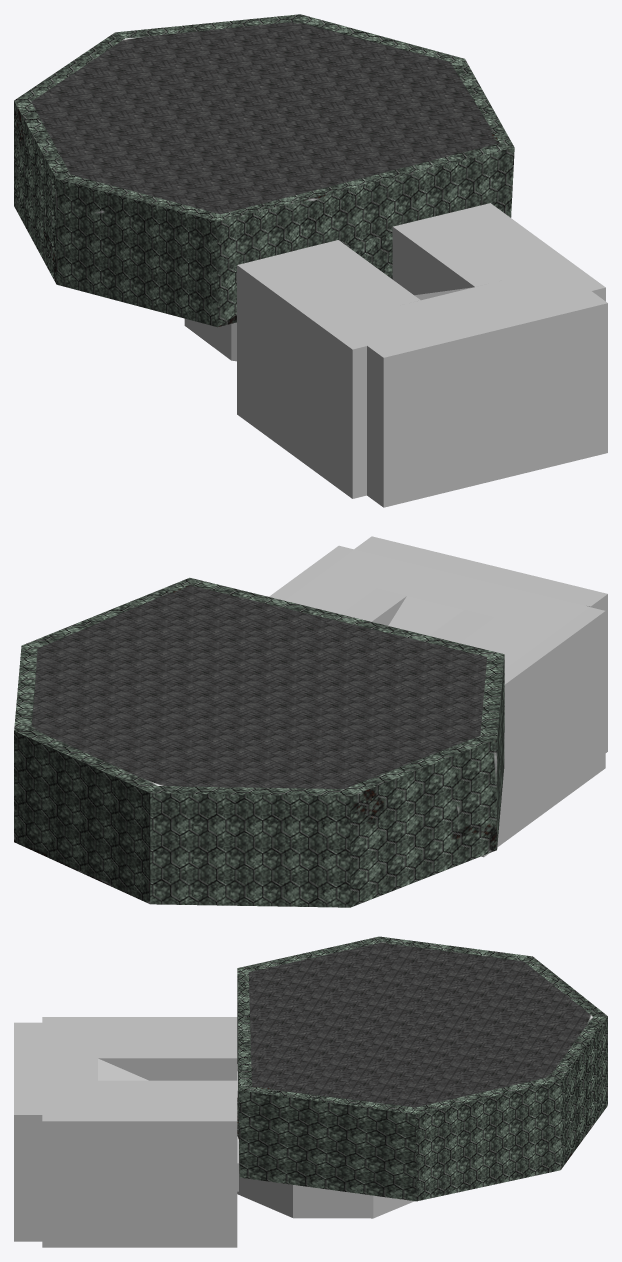
The model's file is MiniGameLevel.fbx.
3 renders of one model, top to bottom at view 1: azimuth 30°, elevation 25°; view 2: azimuth 150°, elevation 25°; view 3: azimuth 270°, elevation 25°, orthographic. The views are drawn at different scales.
Parts seen in each view (by area): view 1: First, right outer wall, Ground; view 2: First, right outer wall; view 3: First, right outer wall, Ground.
Boxes of the visible parts, x1,y1,x2,y2 form: First: (14, 14, 514, 327); right outer wall: (237, 203, 607, 507); Ground: (184, 318, 236, 361); First: (14, 577, 504, 907); right outer wall: (269, 536, 607, 857); First: (237, 936, 607, 1201); right outer wall: (14, 1017, 238, 1247); Ground: (237, 1155, 414, 1218).
Bounding box in the file's own units: 5998 × 2648 × 8490.
